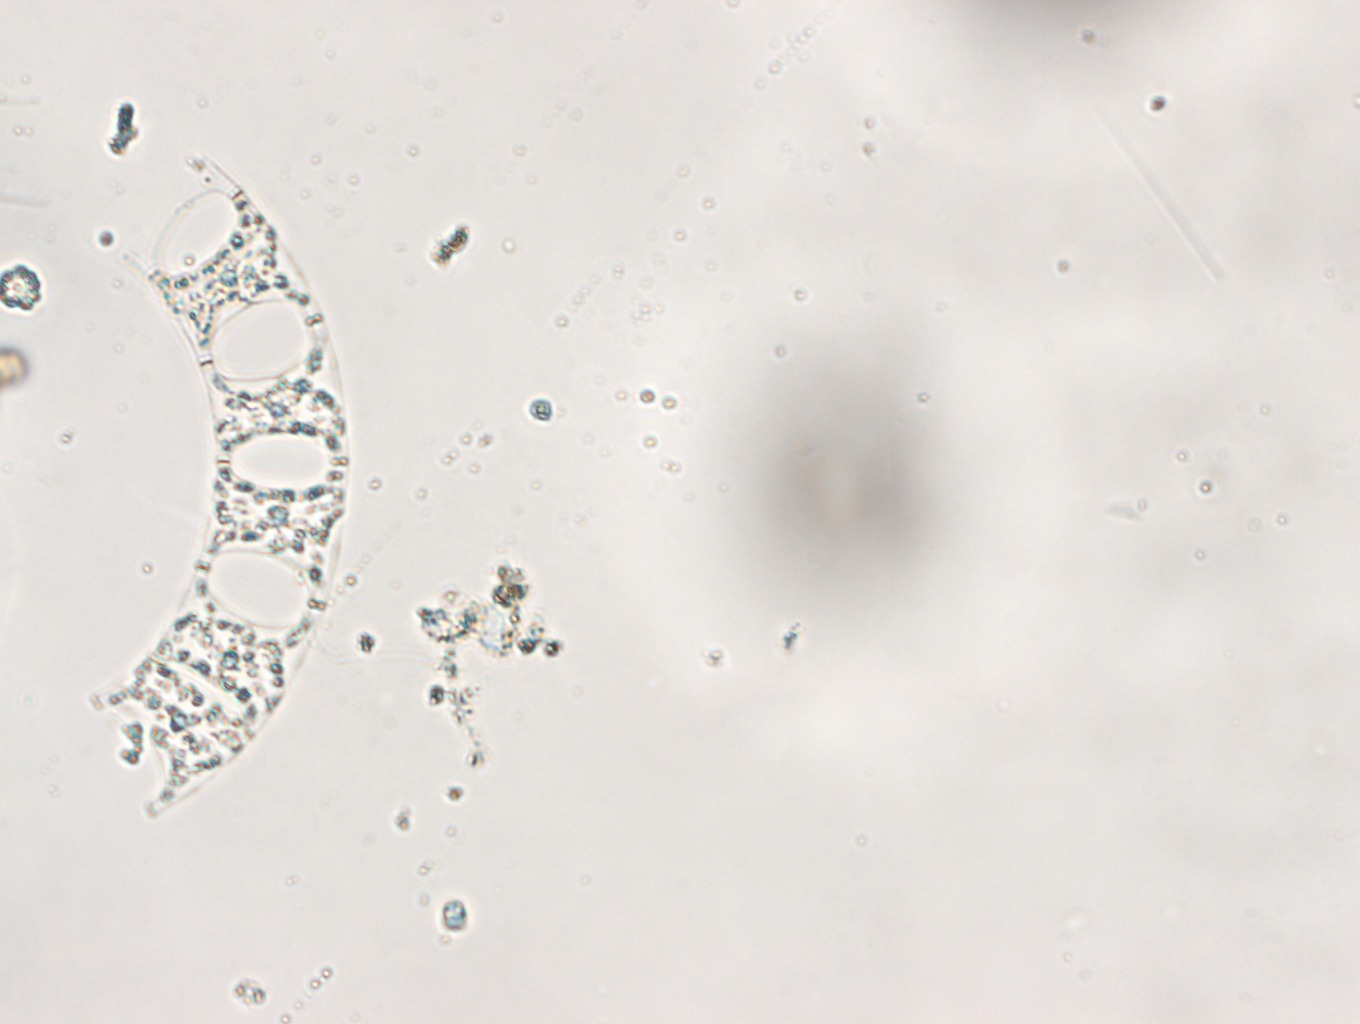eucampia: (86, 150, 361, 841)
